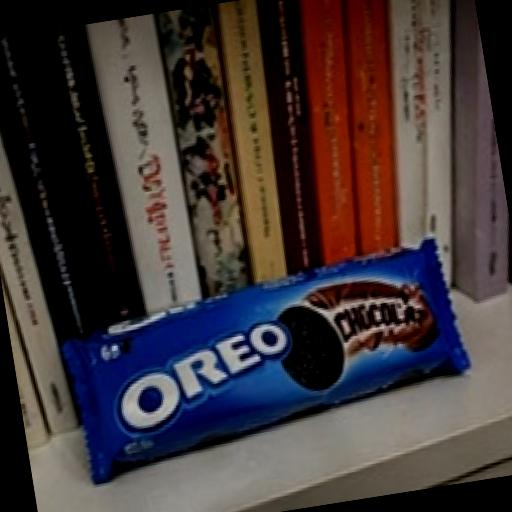oreo: (19, 194, 512, 512)
